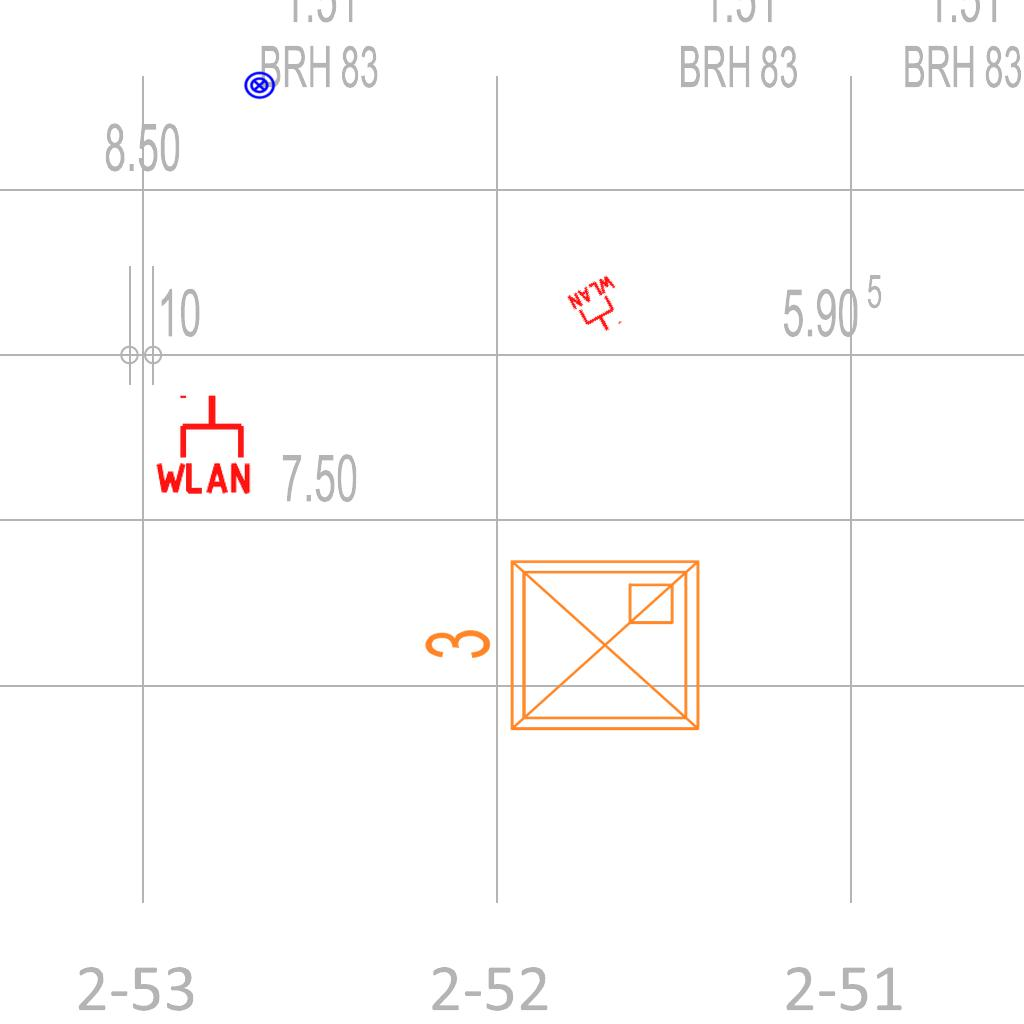Einbaudownlights_LED_Konferenzraeume: (414, 545, 714, 753)
Taster_beleuchtet: (243, 69, 276, 102)
WLAN: (151, 391, 255, 496), (564, 271, 636, 343)
